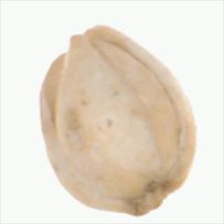L1: (45, 24, 117, 78), (125, 177, 181, 214)
L2: (38, 26, 197, 216)
